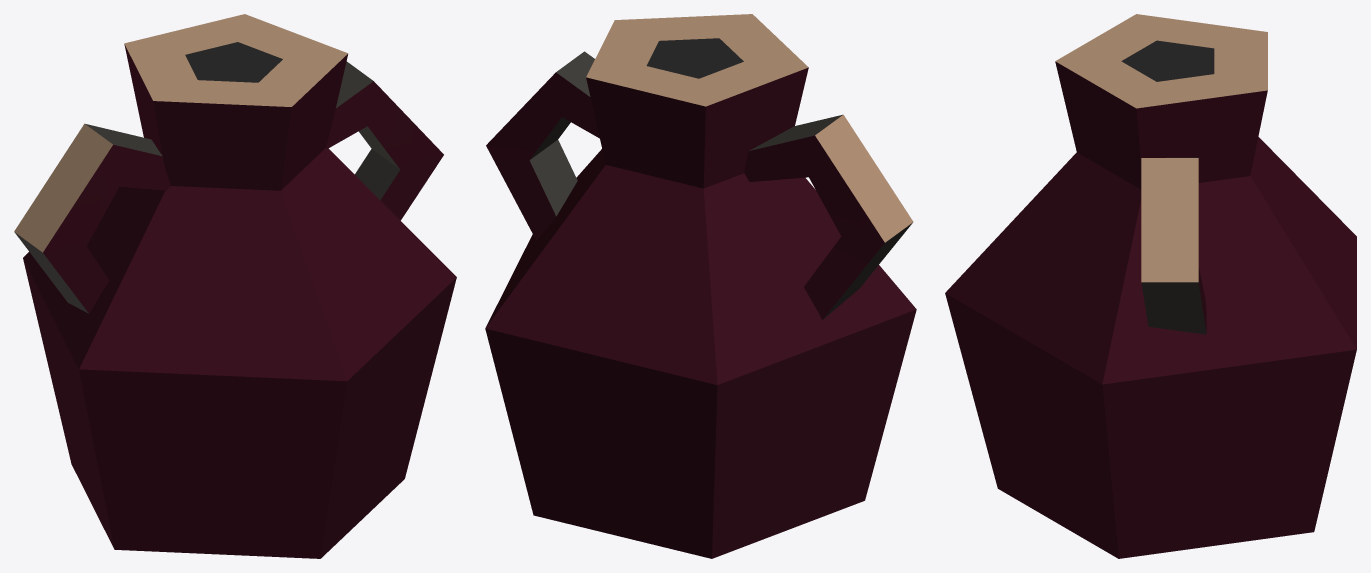
File: TB_D_Prop_Jar_R.FBX
The picture shows the model from 3 angles, left to right: view 1: azimuth 30°, elevation 25°; view 2: azimuth 150°, elevation 25°; view 3: azimuth 270°, elevation 25°; orthographic projection.
Parts seen in each view (by area): view 1: TB_D_Prop_Jar_R; view 2: TB_D_Prop_Jar_R; view 3: TB_D_Prop_Jar_R.
Part boxes in pixels (x1=…): TB_D_Prop_Jar_R: x1=14, y1=14, x2=456, y2=558; TB_D_Prop_Jar_R: x1=485, y1=14, x2=916, y2=558; TB_D_Prop_Jar_R: x1=945, y1=14, x2=1356, y2=558.
Bounding box in the file's own units: 0.8156 × 0.8363 × 0.7304.
